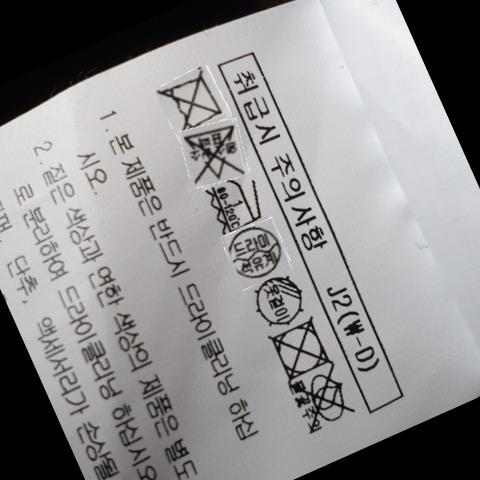DN_bleach: (188, 126, 247, 184)
DN_tumble_dry: (277, 320, 330, 378)
DN_wash: (165, 72, 224, 129)
dry_clean_petrol_only: (226, 226, 288, 281)
iron_low: (208, 178, 270, 229)
line_dry_in_shade: (256, 273, 309, 328)
